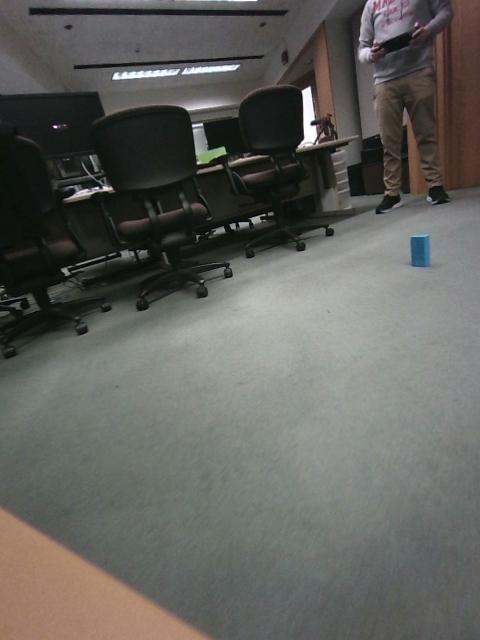block: (301, 340, 371, 399)
